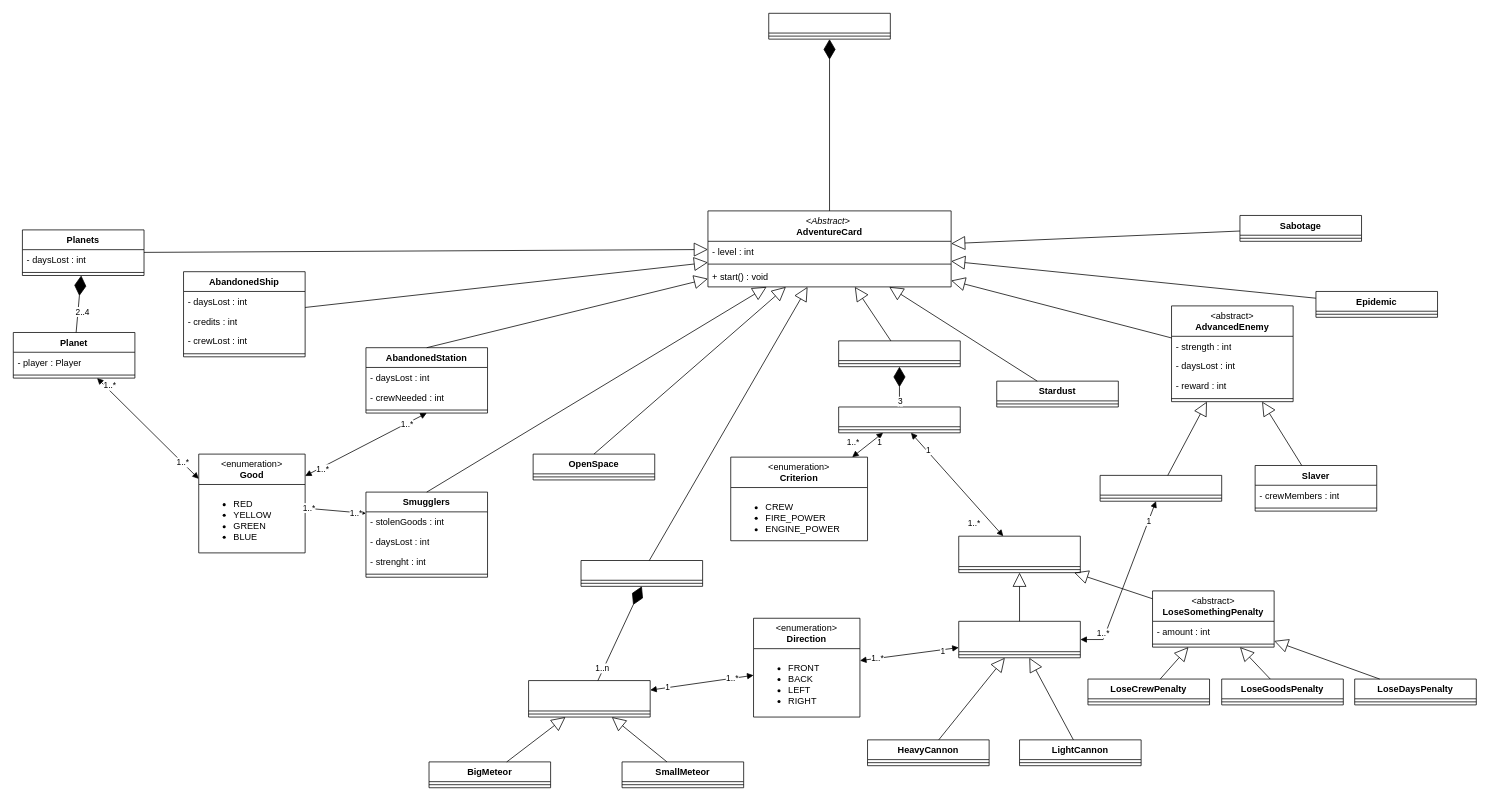
Some shapes in this 1490 by 801 pixel diagram are drawn without their labels. Here are the shapes that lost their labels. From the top down, the centre of each, then its label:
the point at 829,26: Deck
the point at 899,353: CombatZone
the point at 899,419: CombatLine
the point at 1160,488: Pirate
the point at 641,573: MeteorSwarm
the point at 1019,554: <abstract> Penalty
the point at 1019,639: <abstract> CannonPenalty
the point at 589,698: <abstract> Meteor
